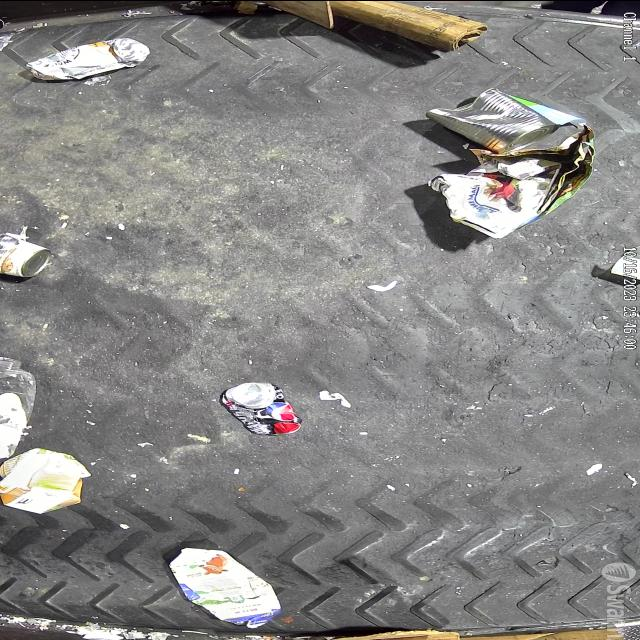can: (429, 86, 563, 152), (26, 36, 152, 80), (220, 381, 302, 435), (0, 231, 51, 277)
non_white_jug: (169, 547, 281, 627), (0, 446, 92, 512)
plastic_bottle: (1, 354, 36, 458)
